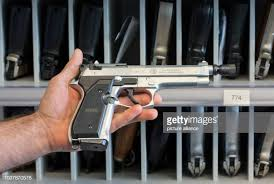Gun: (78, 58, 192, 117)
